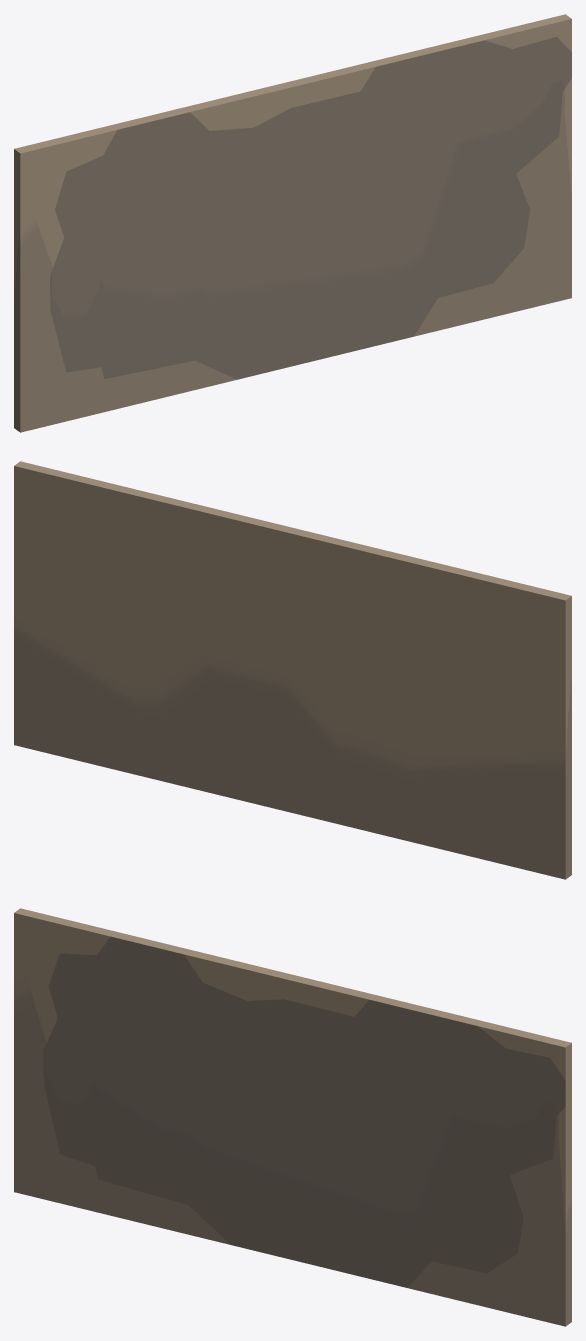
The model's file is SM_Prop_Billboard_Sign_01_781.obj.
3 renders of one model, top to bottom at view 1: azimuth 30°, elevation 25°; view 2: azimuth 150°, elevation 25°; view 3: azimuth 330°, elevation 25°, orthographic.
Visible parts, largest first — view 1: SM_Prop_Billboard_Sign_01_0; view 2: SM_Prop_Billboard_Sign_01_0; view 3: SM_Prop_Billboard_Sign_01_0.
Boxes of the visible parts, x1,y1,x2,y2 form: SM_Prop_Billboard_Sign_01_0: [14, 14, 571, 432]; SM_Prop_Billboard_Sign_01_0: [14, 461, 571, 879]; SM_Prop_Billboard_Sign_01_0: [14, 908, 571, 1326].
Size of the model in its own units: 4.19 by 2.03 by 0.0841.
Materials: 1 (1 with a texture image).
